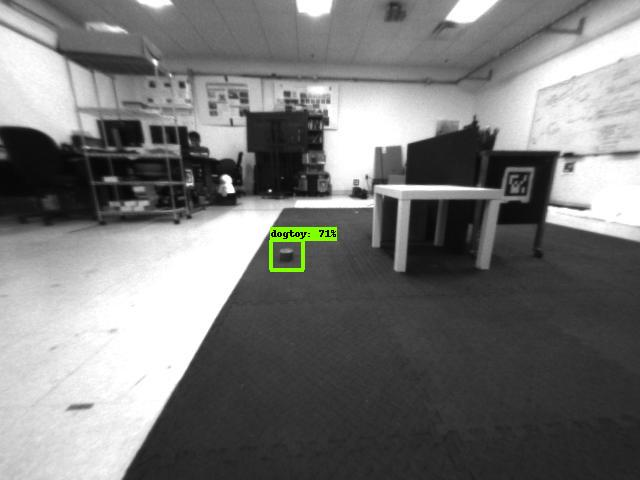dogtoy: (276, 241, 300, 270)
